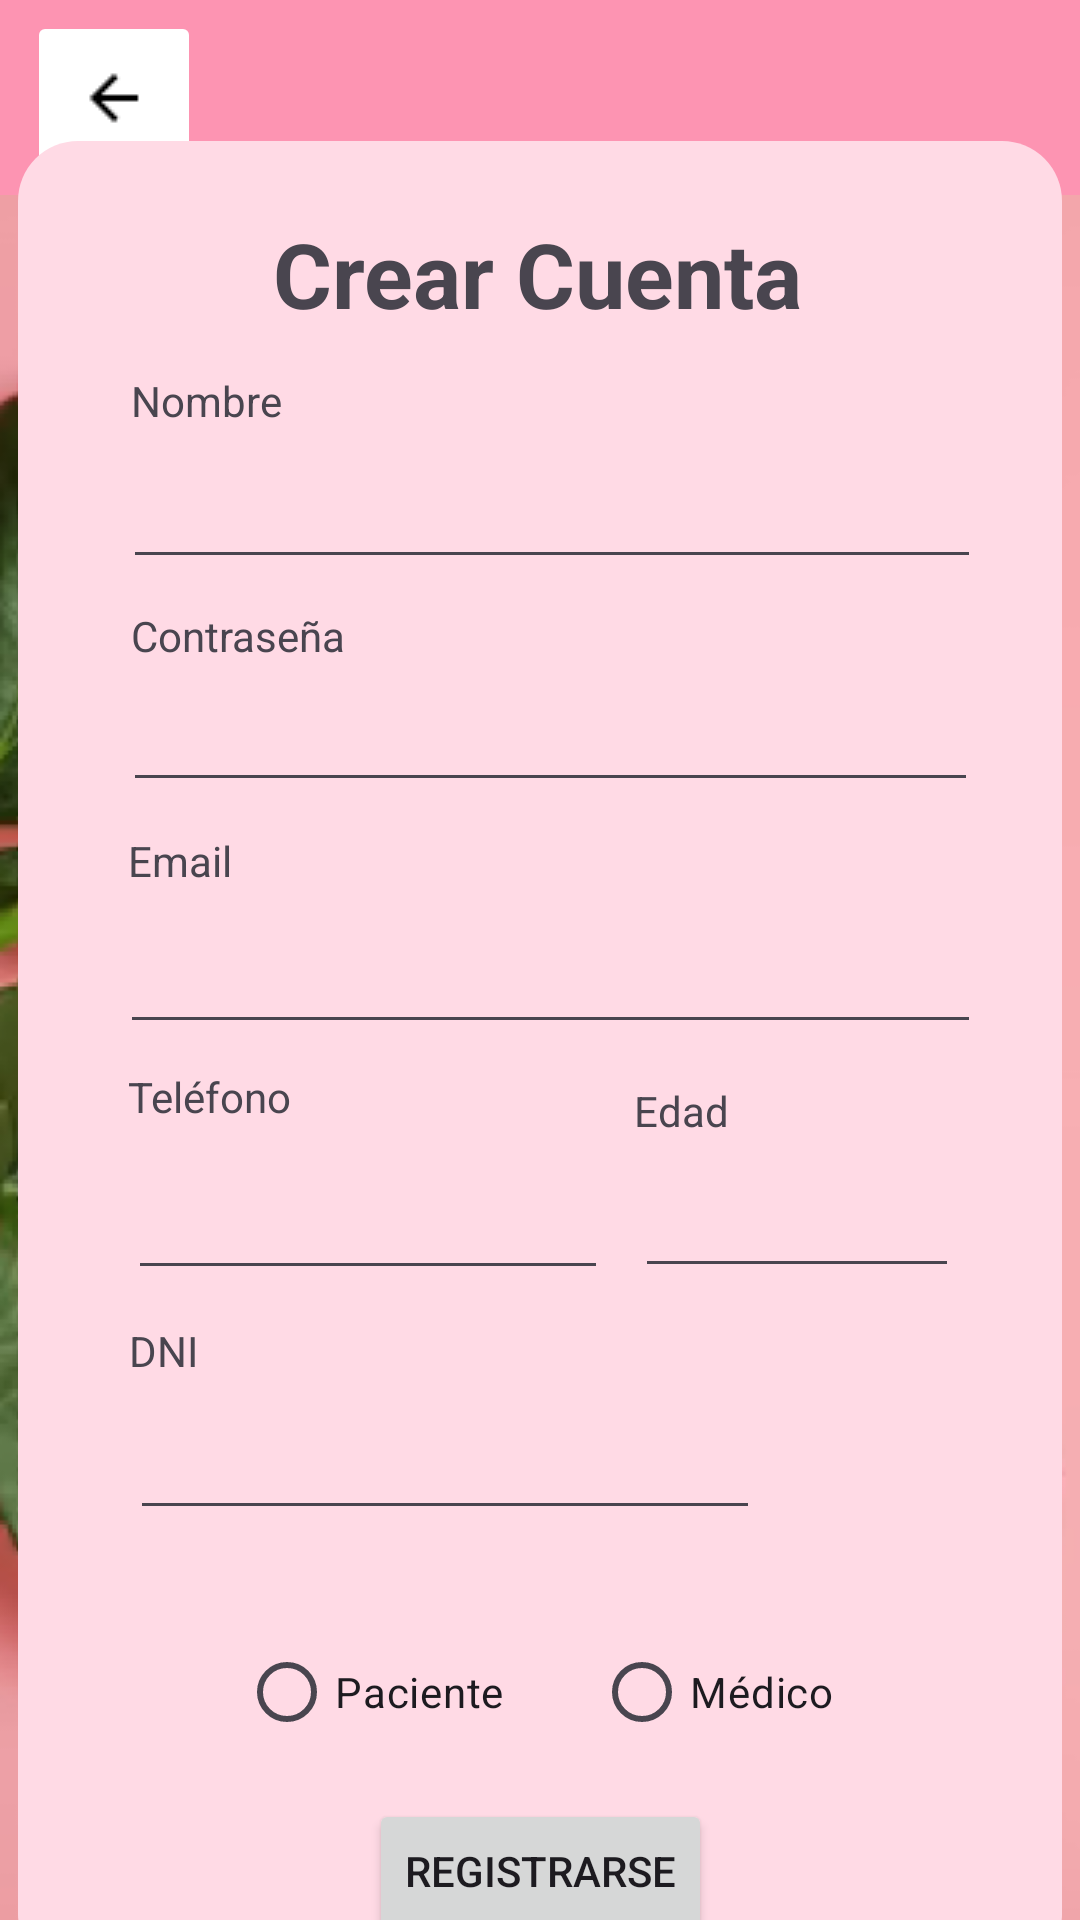

Screen size 1080 x 1920. Icon name, then its box in pixels as (x1, y1, x2, y2):
back: (27, 29, 201, 185)
